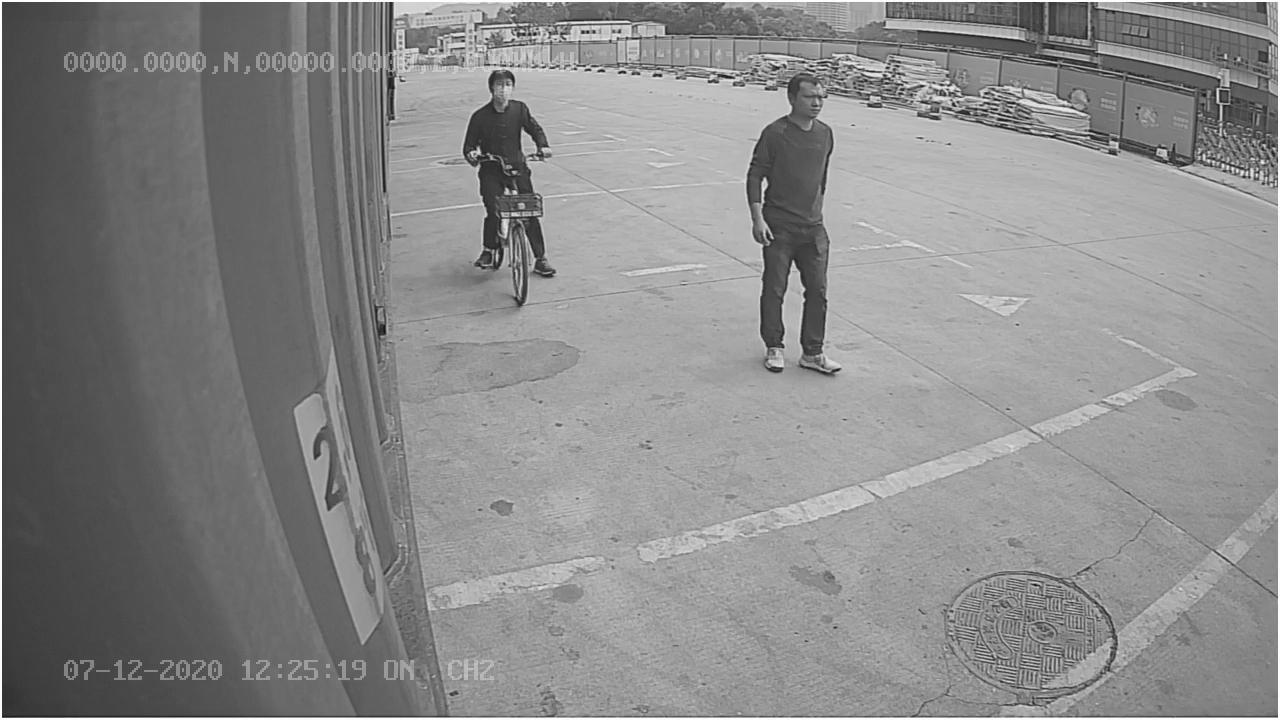person: (744, 65, 848, 380)
